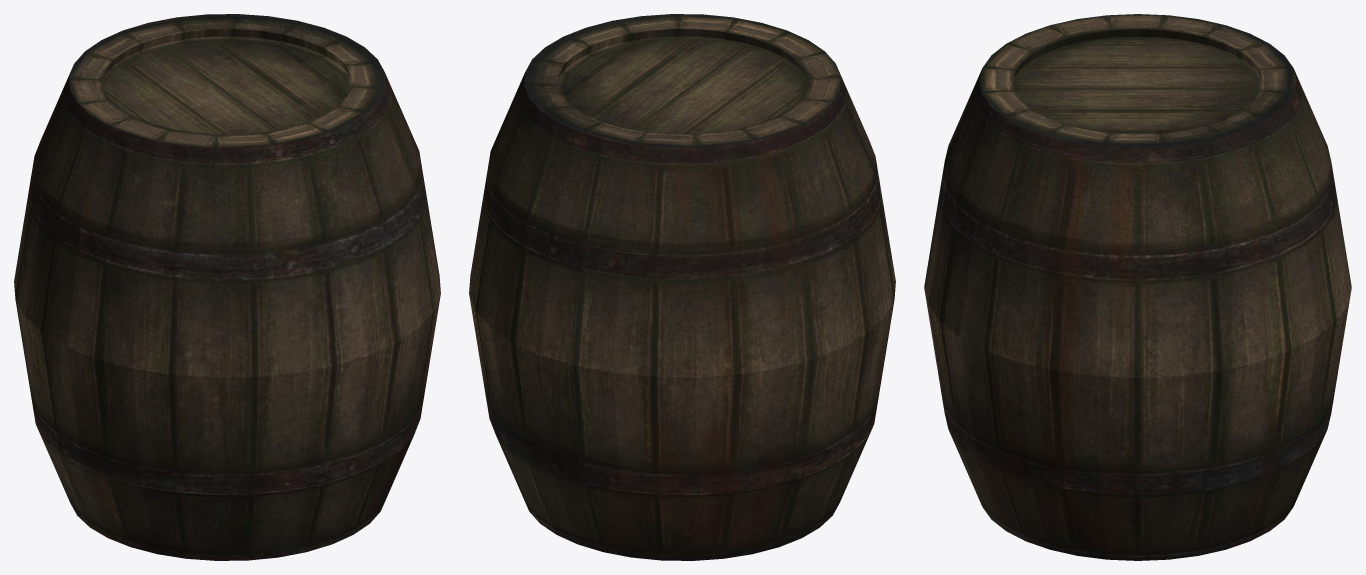
File: Barril_4toB_v1.fbx
3 views of the same model, side by side, from view 1: azimuth 30°, elevation 25°; view 2: azimuth 150°, elevation 25°; view 3: azimuth 270°, elevation 25° (orthographic).
Parts seen in each view (by area): view 1: Barril; view 2: Barril; view 3: Barril.
Part boxes in pixels (x1=…): Barril: x1=14, y1=14, x2=440, y2=560; Barril: x1=469, y1=14, x2=895, y2=560; Barril: x1=924, y1=14, x2=1351, y2=560.
Size of the model in its own units: 290 by 309 by 290.
1 material, 1 textured.
